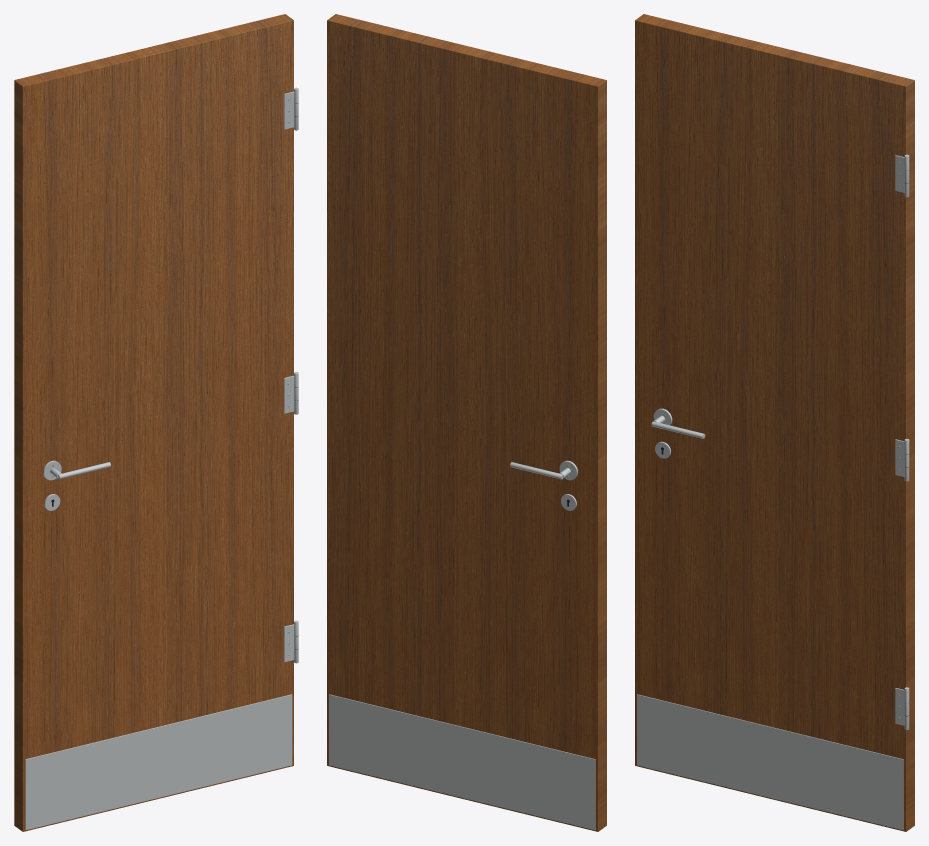
Rendered from clubhouse_door_rear_leaf_800_right.glb.
3 renders of one model, left to right at view 1: azimuth 30°, elevation 25°; view 2: azimuth 150°, elevation 25°; view 3: azimuth 330°, elevation 25°, orthographic.
Parts seen in each view (by area): view 1: ReferenceMatchedSatinTimber, BrushedStainlessSteel; view 2: ReferenceMatchedSatinTimber, BrushedStainlessSteel; view 3: ReferenceMatchedSatinTimber, BrushedStainlessSteel.
Part boxes in pixels (x1,y1,x2,y2): ReferenceMatchedSatinTimber: (14, 14, 293, 831); BrushedStainlessSteel: (25, 87, 298, 830); ReferenceMatchedSatinTimber: (327, 14, 606, 831); BrushedStainlessSteel: (329, 460, 595, 830); ReferenceMatchedSatinTimber: (635, 14, 914, 831); BrushedStainlessSteel: (637, 154, 909, 830).
Bounding box in the file's own units: 0.8102 × 2.1 × 0.1494.
Materials: 3 (1 with a texture image).
